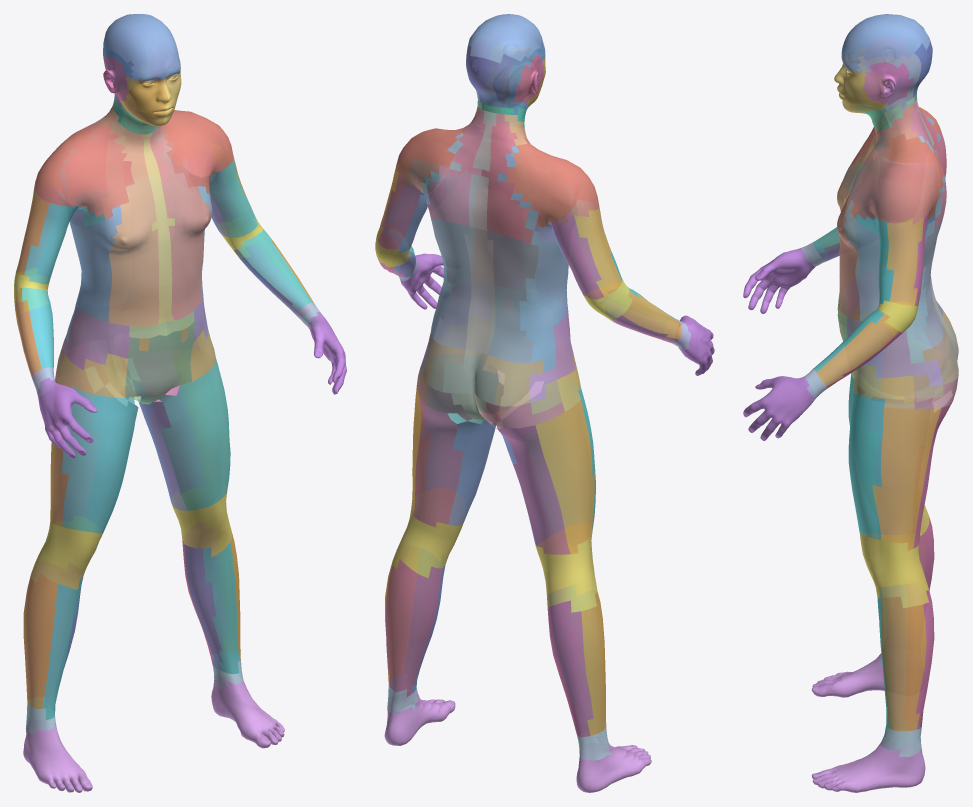
Rendered from neutro_body_v1_body_interaction.glb.
3 views of the same model, side by side, from view 1: azimuth 30°, elevation 25°; view 2: azimuth 150°, elevation 25°; view 3: azimuth 270°, elevation 25° (orthographic). The views are drawn at different scales.
Visible parts, largest first — view 1: zone_right_chest, zone_left_thigh_front, zone_right_thigh_front, zone_right_shoulder, zone_right_lower_leg_back, zone_left_chest, zone_left_thigh_back, zone_left_ribs, zone_left_thigh_outer, zone_left_mid_back, zone_right_thigh_inner, zone_left_shoulder (+57 smaller); view 2: zone_left_thigh_front, zone_right_thigh_front, zone_left_chest, zone_right_thigh_outer, zone_lower_abdomen, zone_left_lower_leg_back, zone_right_ribs, zone_right_shoulder, zone_left_ribs, zone_right_mid_back, zone_left_thigh_back, zone_left_knee (+53 smaller); view 3: zone_left_thigh_outer, zone_left_shoulder, zone_left_thigh_inner, zone_left_lower_leg_outer, zone_right_ribs, zone_left_thigh_front, zone_left_ribs, zone_left_foot, zone_left_knee, zone_head_top, zone_left_lower_leg_back, zone_left_chest (+43 smaller).
Part boxes in pixels (x1,y1,x2,y2): zone_right_chest: (99, 100, 159, 326); zone_left_thigh_front: (159, 358, 230, 510); zone_right_thigh_front: (61, 386, 138, 533); zone_right_shoulder: (33, 121, 134, 219); zone_right_lower_leg_back: (25, 561, 79, 706); zone_left_chest: (149, 125, 211, 320); zone_left_thigh_back: (133, 350, 204, 495); zone_left_ribs: (147, 129, 212, 312); zone_left_thigh_outer: (172, 350, 228, 487); zone_left_mid_back: (124, 176, 173, 301); zone_right_thigh_inner: (86, 387, 137, 530); zone_left_shoulder: (157, 110, 233, 194); zone_left_thigh_front: (424, 354, 503, 511); zone_right_thigh_front: (525, 380, 595, 534); zone_left_chest: (462, 106, 522, 288); zone_right_thigh_outer: (535, 400, 594, 553); zone_lower_abdomen: (489, 297, 558, 410); zone_left_lower_leg_back: (386, 559, 442, 697); zone_right_ribs: (497, 146, 573, 371); zone_right_shoulder: (506, 137, 599, 227); zone_left_ribs: (420, 133, 484, 338); zone_right_mid_back: (487, 231, 538, 363); zone_left_thigh_back: (413, 397, 463, 527); zone_left_knee: (392, 488, 465, 577); zone_left_thigh_outer: (872, 407, 941, 550); zone_left_shoulder: (851, 134, 943, 224); zone_left_thigh_inner: (867, 401, 933, 534); zone_left_lower_leg_outer: (881, 596, 926, 731); zone_right_ribs: (844, 112, 943, 306); zone_left_thigh_front: (848, 388, 885, 540); zone_left_ribs: (843, 135, 945, 363); zone_left_foot: (811, 738, 925, 792); zone_left_knee: (859, 533, 928, 608); zone_head_top: (841, 14, 929, 72); zone_left_lower_leg_back: (903, 582, 934, 730); zone_left_chest: (837, 105, 917, 320).
Size of the model in its own units: 0.7372 by 1.73 by 0.4697.
